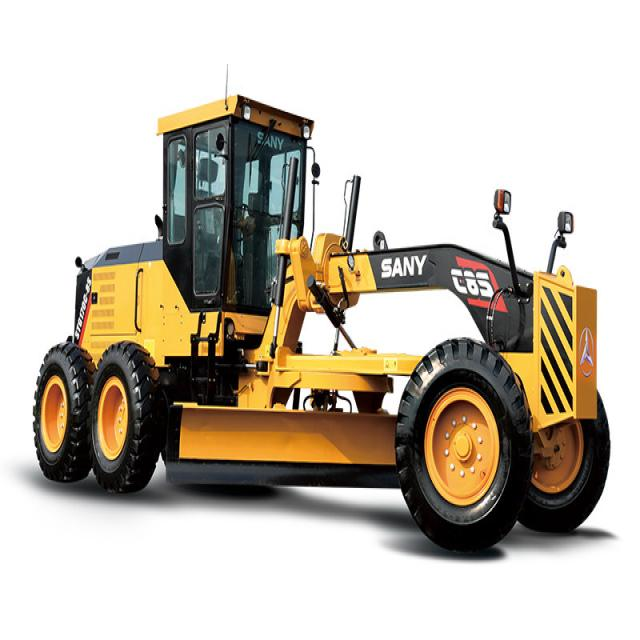buldozerpayloadergrader: (28, 94, 608, 590)
